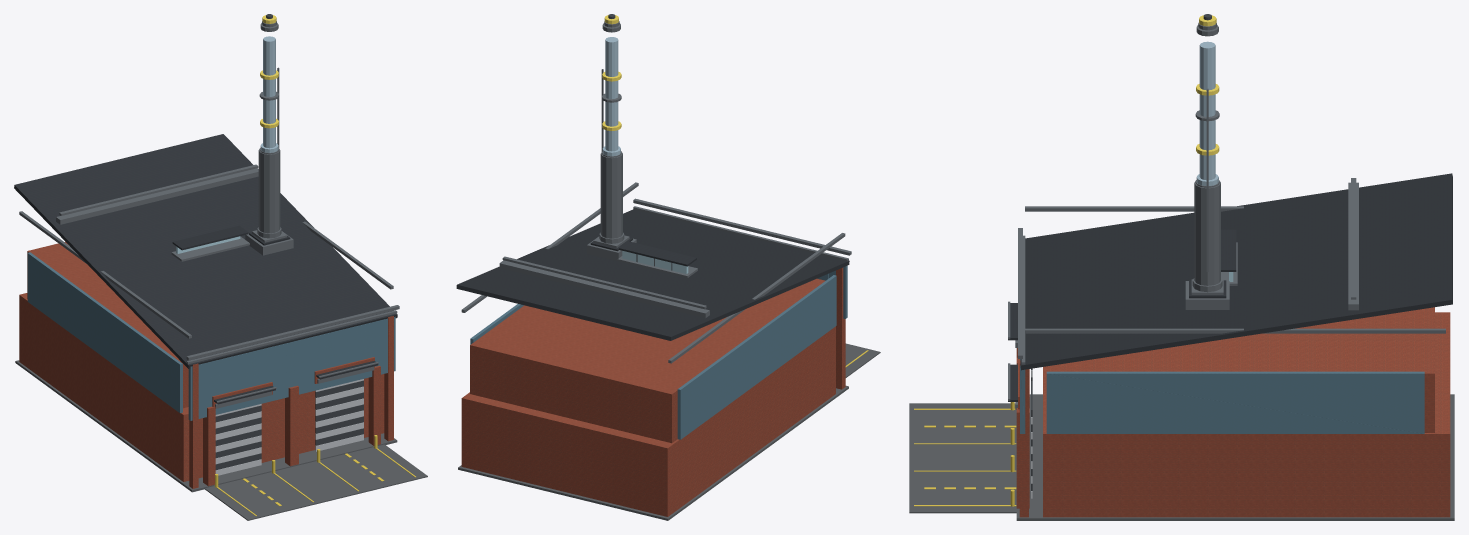
File: factory-light.glb
The picture shows the model from 3 angles, left to right: view 1: azimuth 30°, elevation 25°; view 2: azimuth 150°, elevation 25°; view 3: azimuth 270°, elevation 25°; orthographic projection. The views are drawn at different scales.
Visible parts, largest first — view 1: fac-roof-slab, fac-wall-core-brick, fac-clad-front, fac-clad-side--1, fac-dock-apron, fac-wall-sides-brick, fac-plinth, fac-roof-ridge, fac-exhaust-heat-shield, fac-exhaust-stack-top, fac-roof-eave-F, fac-corner-pier--1 (+11 smaller); view 2: fac-wall-core-brick, fac-wall-sides-brick, fac-roof-slab, fac-clad-side--1, fac-roof-ridge, fac-exhaust-heat-shield, fac-plinth, fac-exhaust-stack-top, fac-roof-eave-F, fac-corner-pier--1, fac-roof-rake--1, fac-roof-ridge-flash (+5 smaller); view 3: fac-roof-slab, fac-wall-core-brick, fac-clad-side-1, fac-wall-sides-brick, fac-dock-apron, fac-plinth, fac-exhaust-heat-shield, fac-roof-rake-1, fac-exhaust-stack-top, fac-corner-pier-1, fac-roof-rake--1, fac-roof-ridge (+4 smaller).
Part boxes in pixels (box(x1,y1,x2,y2)): fac-roof-slab: box(14, 134, 397, 368); fac-wall-core-brick: box(19, 293, 384, 481); fac-clad-front: box(188, 316, 395, 420); fac-clad-side--1: box(27, 252, 182, 413); fac-dock-apron: box(204, 444, 427, 520); fac-wall-sides-brick: box(27, 241, 188, 408); fac-plinth: box(15, 360, 397, 492); fac-roof-ridge: box(56, 168, 258, 224); fac-exhaust-heat-shield: box(258, 148, 280, 233); fac-exhaust-stack-top: box(263, 36, 275, 148); fac-roof-eave-F: box(186, 305, 399, 360); fac-corner-pier--1: box(189, 363, 198, 488); fac-wall-core-brick: box(461, 326, 835, 516); fac-wall-sides-brick: box(470, 278, 825, 443); fac-roof-slab: box(456, 209, 849, 340); fac-clad-side--1: box(677, 275, 836, 439); fac-roof-ridge: box(499, 260, 709, 318); fac-exhaust-heat-shield: box(600, 151, 622, 238); fac-plinth: box(458, 385, 848, 520); fac-exhaust-stack-top: box(605, 37, 618, 151); fac-roof-eave-F: box(633, 198, 851, 255); fac-corner-pier--1: box(836, 267, 845, 389); fac-roof-rake--1: box(668, 233, 845, 363); fac-roof-ridge-flash: box(502, 256, 706, 309); fac-roof-slab: box(1020, 173, 1452, 370); fac-wall-core-brick: box(1043, 312, 1450, 517); fac-clad-side-1: box(1046, 371, 1424, 433); fac-wall-sides-brick: box(1060, 307, 1434, 432); fac-dock-apron: box(909, 403, 1016, 513); fac-plinth: box(1016, 394, 1454, 520); fac-exhaust-heat-shield: box(1194, 180, 1220, 285); fac-roof-rake-1: box(1025, 328, 1445, 333); fac-exhaust-stack-top: box(1199, 41, 1215, 180); fac-corner-pier-1: box(1019, 360, 1028, 517); fac-roof-rake--1: box(1025, 206, 1243, 211); fac-roof-ridge: box(1348, 182, 1358, 310).
Bounding box in the file's own units: 13.02 × 22.56 × 23.49.
11 materials, 3 textured.
